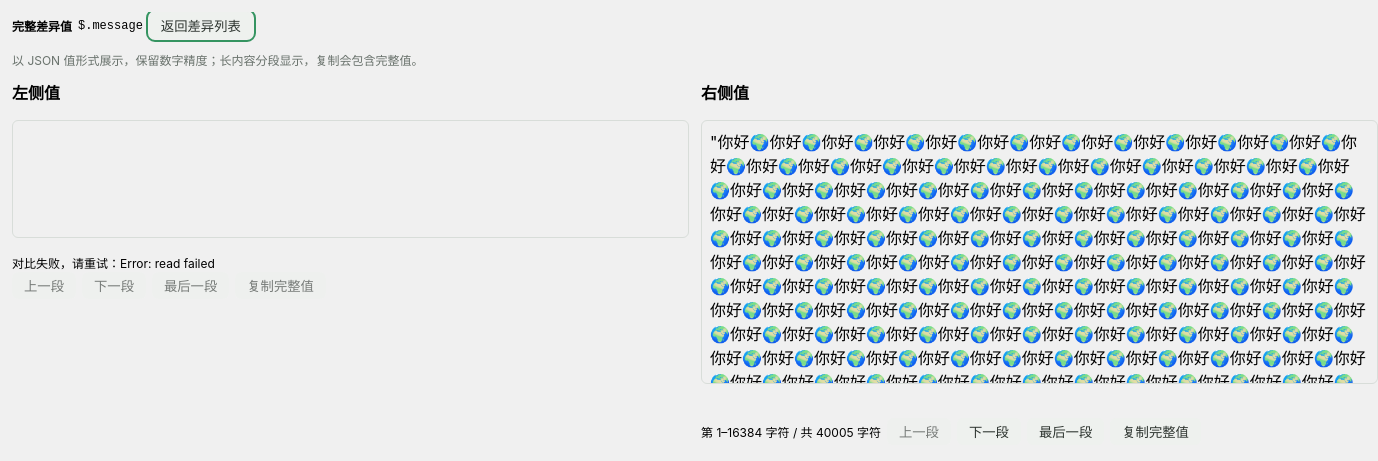
full difference values › reports load and clipboard errors
Check: the text "对比失败，请重试：Error: read failed" is shown, box x1=12 y1=256 x2=215 y2=271
Check: the text "第 1–16384 字符 / 共 40005 字符" is shown, box x1=701 y1=423 x2=881 y2=440
Click the button "复制完整值" in the row of "第 1–16384 字符 / 共 40005 字符".
click(1156, 431)  # box x1=1110 y1=418 x2=1201 y2=445
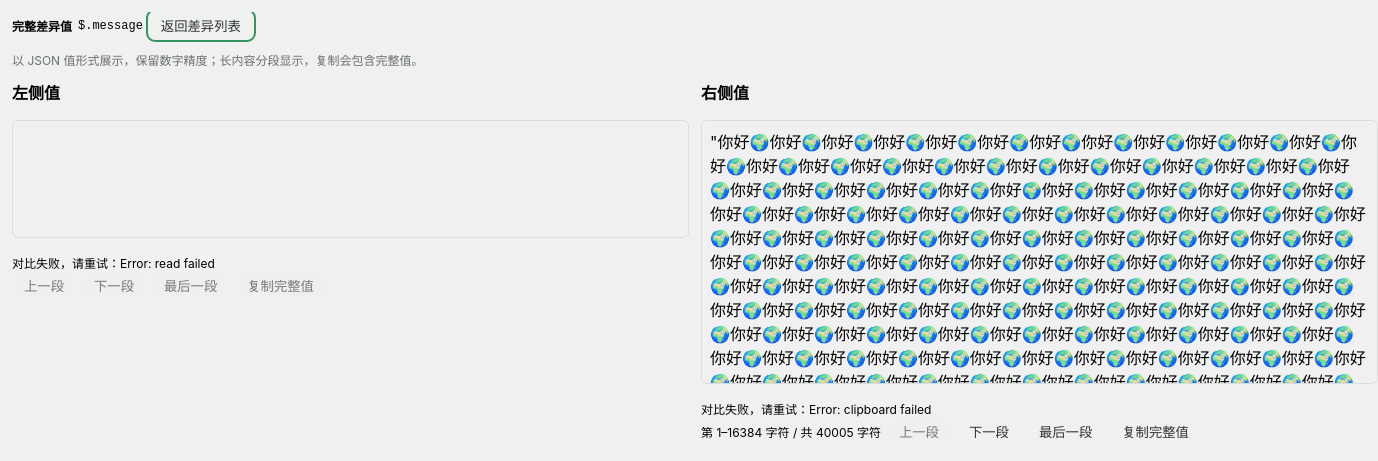
Check: the text "对比失败，请重试：Error: clipboard failed" is shown, box x1=701 y1=402 x2=931 y2=417
